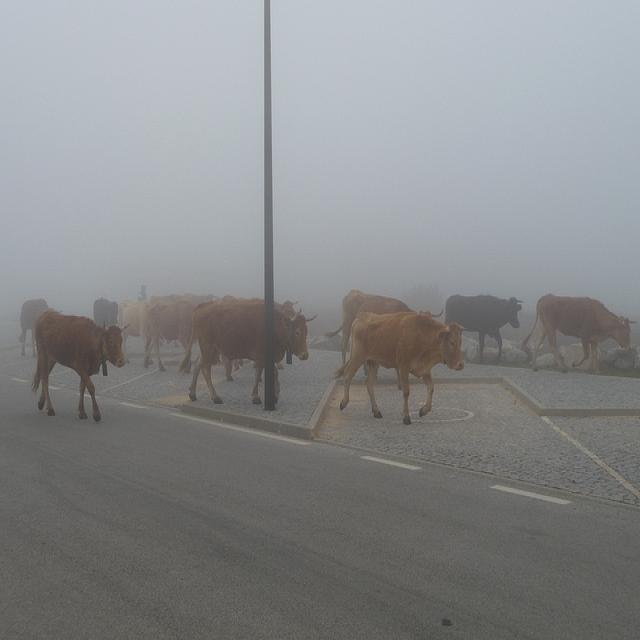cow: (178, 294, 316, 402), (338, 311, 463, 424), (31, 304, 130, 420), (315, 287, 441, 376), (518, 293, 633, 375), (444, 293, 515, 360), (142, 299, 194, 369), (118, 299, 151, 361), (18, 298, 47, 358), (91, 296, 117, 327)
